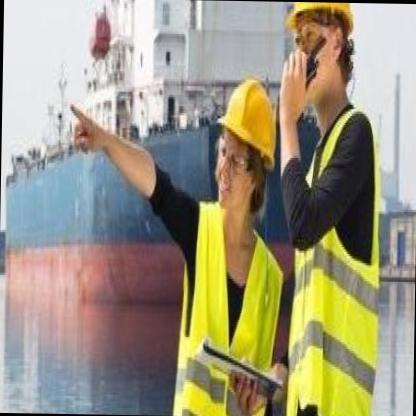bee: (209, 59, 282, 236), (280, 2, 362, 102)
